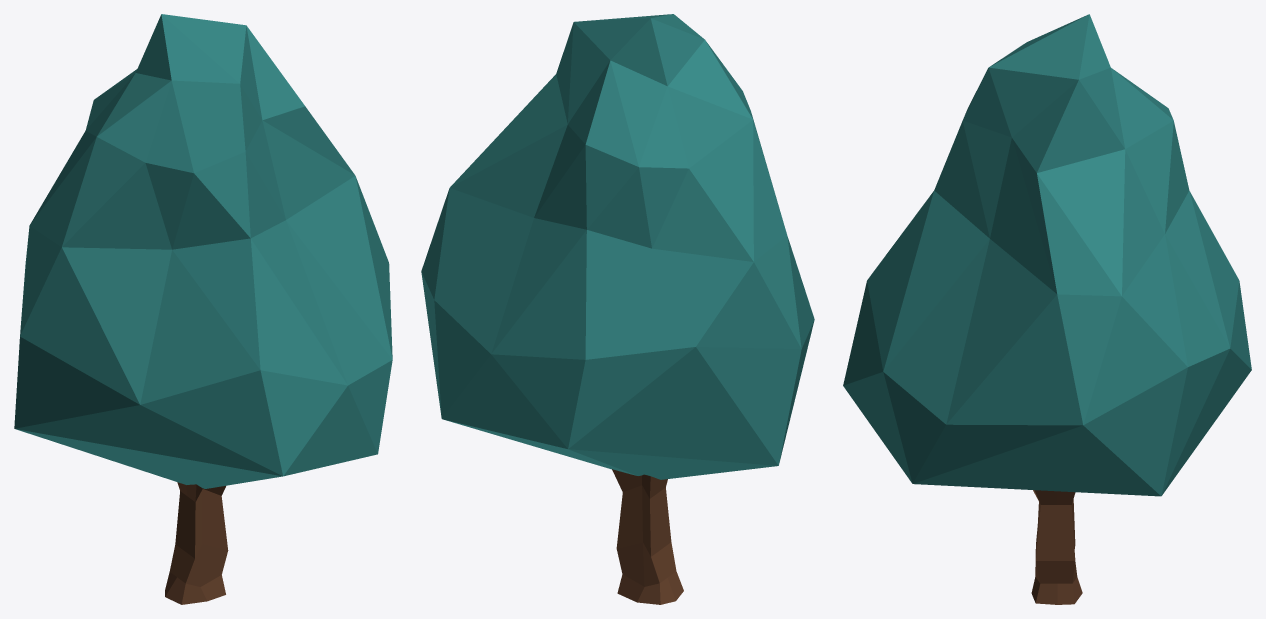
The model's file is Tree_27_Blue.fbx.
The picture shows the model from 3 angles, left to right: view 1: azimuth 30°, elevation 25°; view 2: azimuth 150°, elevation 25°; view 3: azimuth 270°, elevation 25°; orthographic projection. The views are drawn at different scales.
Parts seen in each view (by area): view 1: Tree_27_Blue_Part_1, Tree_27_Blue_Part_2; view 2: Tree_27_Blue_Part_1, Tree_27_Blue_Part_2; view 3: Tree_27_Blue_Part_1, Tree_27_Blue_Part_2.
Boxes of the visible parts, x1=… form: Tree_27_Blue_Part_1: x1=14, y1=14, x2=392, y2=488; Tree_27_Blue_Part_2: x1=165, y1=482, x2=228, y2=604; Tree_27_Blue_Part_1: x1=421, y1=14, x2=814, y2=479; Tree_27_Blue_Part_2: x1=612, y1=469, x2=683, y2=604; Tree_27_Blue_Part_1: x1=843, y1=14, x2=1251, y2=496; Tree_27_Blue_Part_2: x1=1031, y1=490, x2=1082, y2=604.
Bounding box in the file's own units: 470 × 696 × 451.
